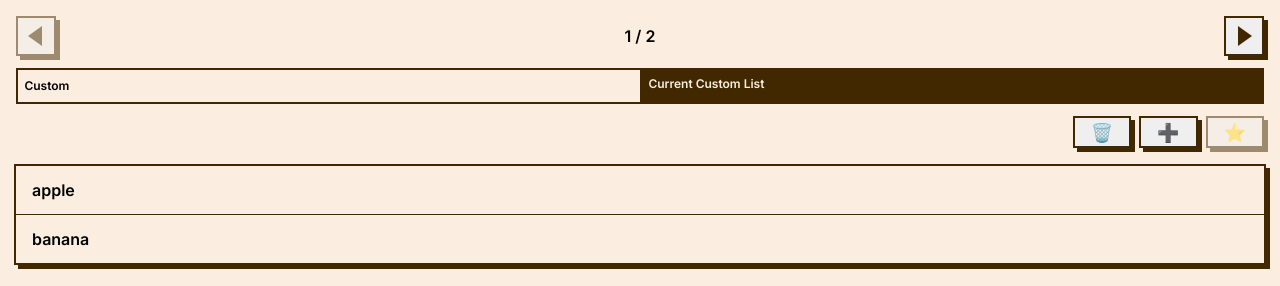
Test: WordListsContent › list navigation › navigates to next list
Step 1. Click the button named "next list" → (1244, 36), box [1224,16,1264,56]
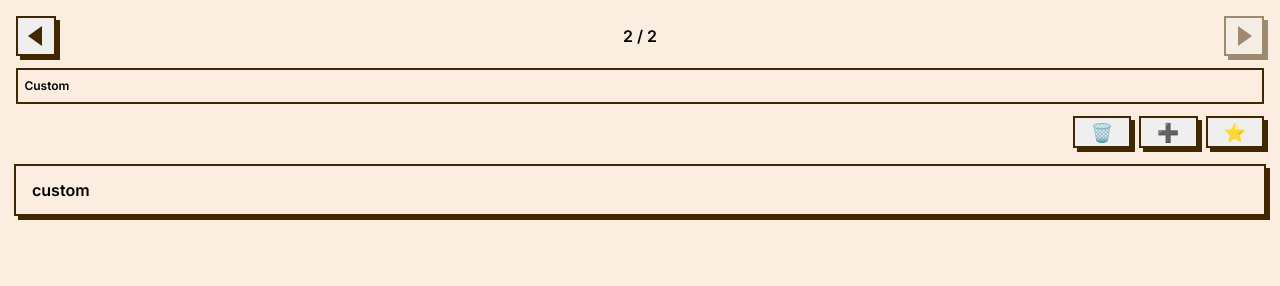
Expected: the list item "custom" is shown, [32,180,90,200]
Expected: the text "2 / 2" is shown, [623,20,657,52]
